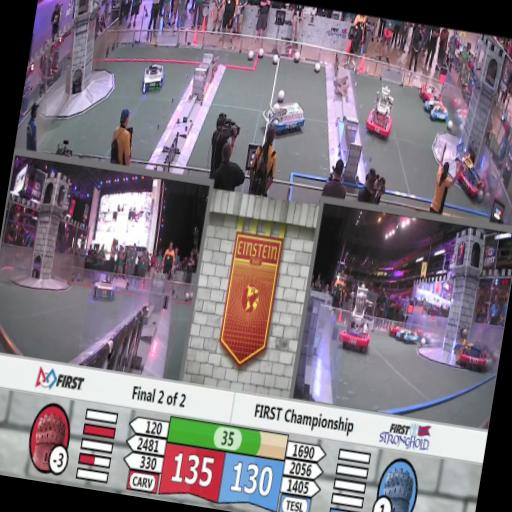robot: (336, 295, 376, 349), (258, 96, 307, 138), (363, 83, 398, 140), (455, 338, 491, 369), (138, 64, 167, 98), (90, 272, 118, 302), (421, 96, 450, 124), (418, 82, 443, 102), (395, 327, 423, 343), (388, 322, 406, 338)
